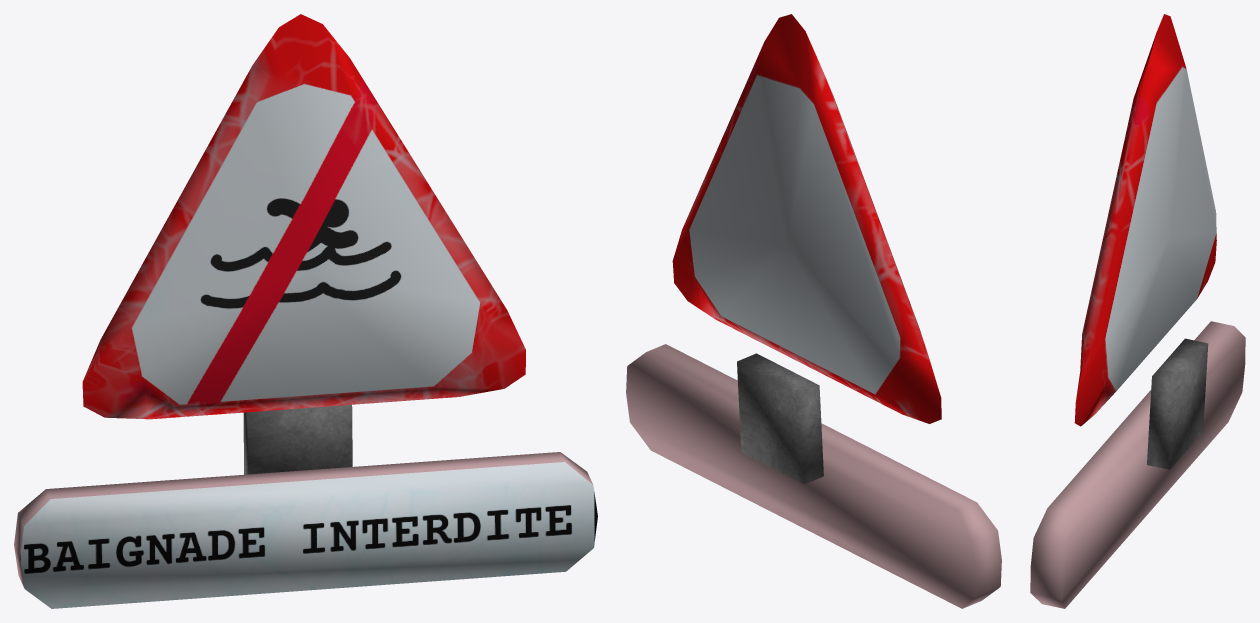
The model's file is panneau.fbx.
The picture shows the model from 3 angles, left to right: view 1: azimuth 30°, elevation 25°; view 2: azimuth 150°, elevation 25°; view 3: azimuth 270°, elevation 25°; orthographic projection. The views are drawn at different scales.
Visible parts, largest first — view 1: Plane.034; view 2: Plane.034; view 3: Plane.034.
Boxes of the visible parts, box(x1,y1,x2,y2) form: Plane.034: box(14, 14, 597, 608); Plane.034: box(626, 14, 1001, 608); Plane.034: box(1030, 14, 1245, 608).
Bounding box in the file's own units: 0.0562 × 0.0615 × 0.0238.
